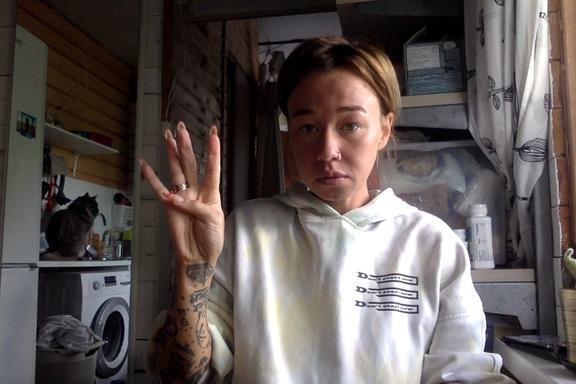four: (137, 120, 230, 269)
